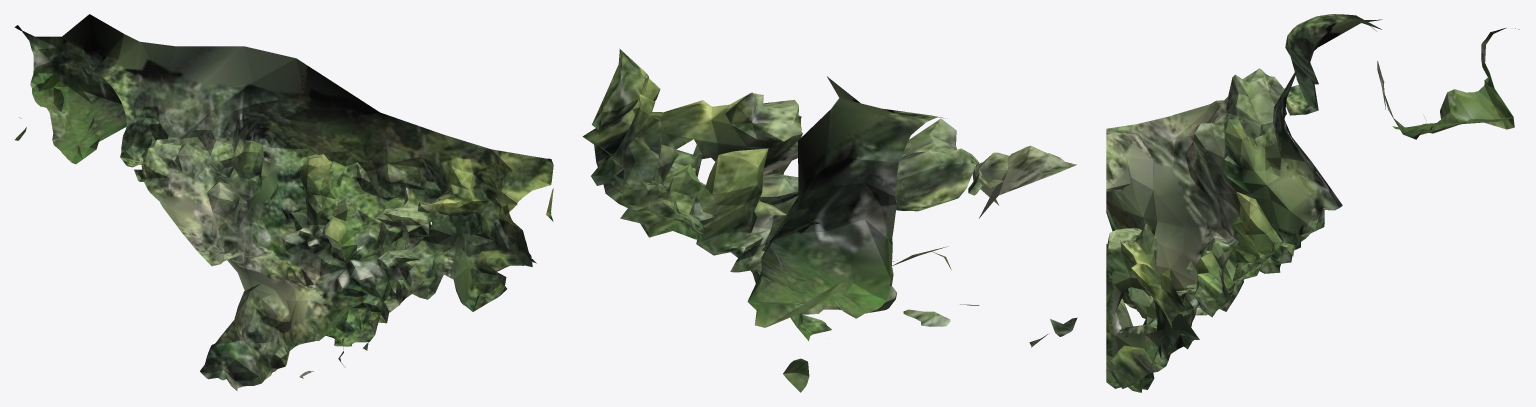
3 renders of one model, left to right at view 1: azimuth 30°, elevation 25°; view 2: azimuth 150°, elevation 25°; view 3: azimuth 270°, elevation 25°, orthographic. The views are drawn at different scales.
Bounding box in the file's own units: 52.22 × 37.99 × 52.22.
3 materials, 3 textured.
